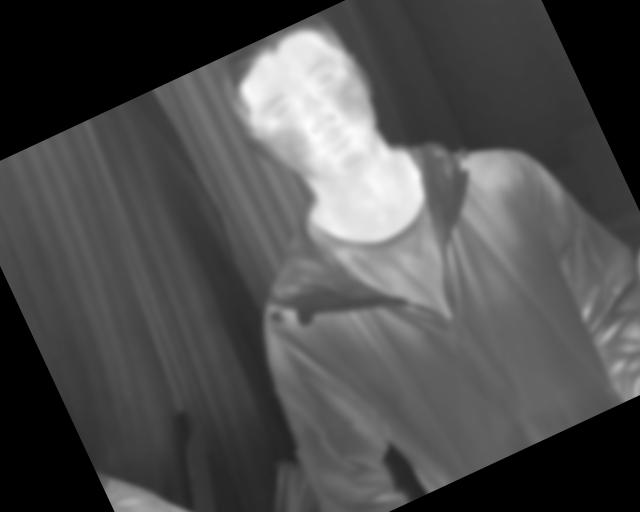face: (212, 5, 402, 206)
